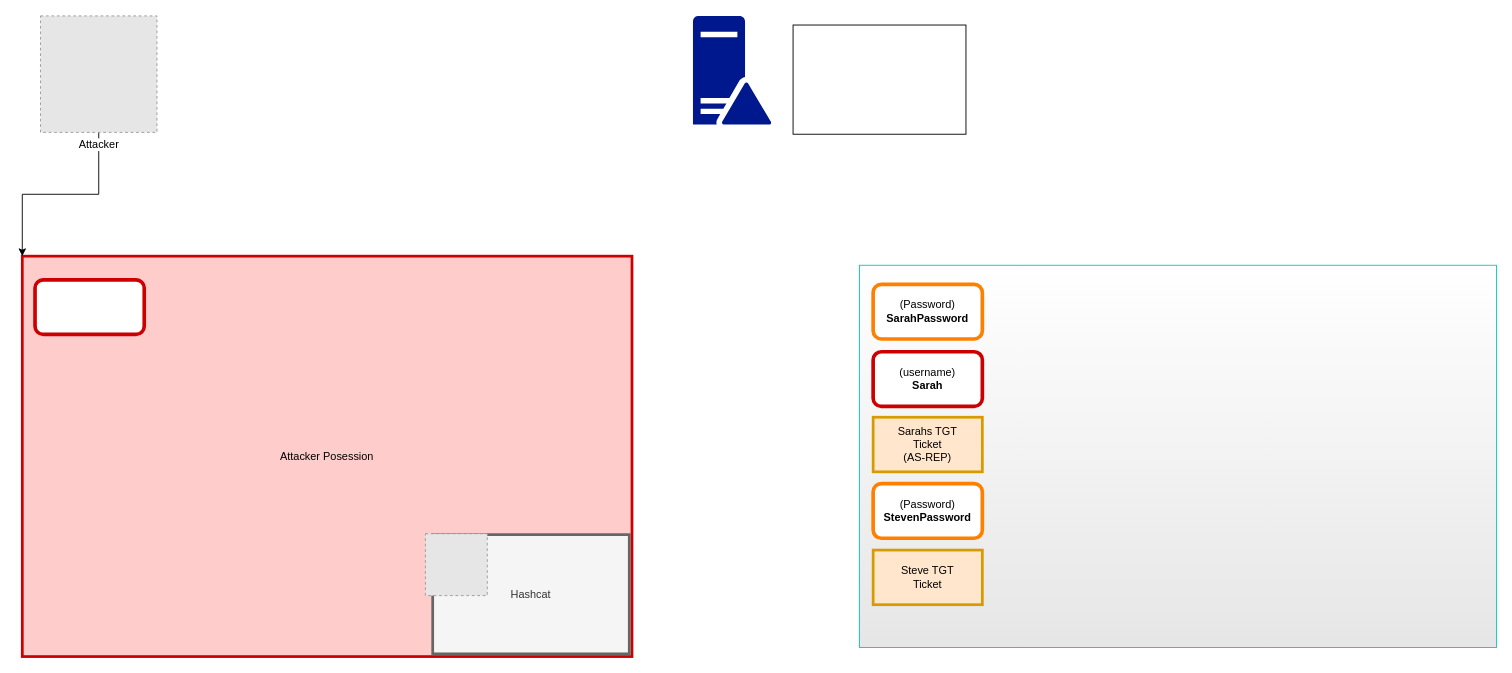
Image size: 1512x673. Some labels were removed from this diagram. Grey dashed boxes stand in for pictures. The shapes that lost their labels are listed below. From the top down, each one's box as (x1, y1, x2, y2) in pixels, then its label:
(693, 15, 771, 124): Domain Controler
(792, 24, 966, 134): DC USER INFO light.local/sarah: - No Kerberos Preauthentication
(33, 278, 146, 336): (username) Steven
(859, 264, 1496, 647): Unknown / Does not exist / not yet found
